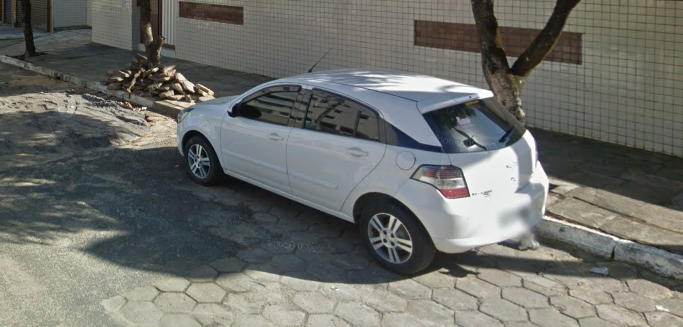car: (174, 44, 557, 278)
